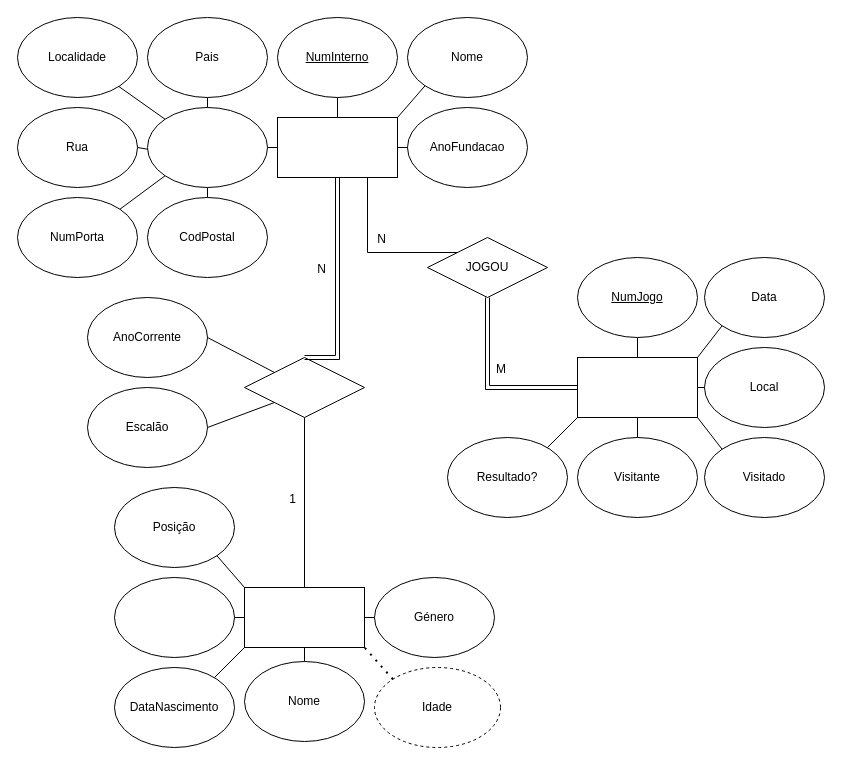
The diagram is 842 pixels wide and 765 high, and some of its shapes have lost their labels. Each missing label, with the centre of its shape:
"EQUIPA" belongs at (x=337, y=147).
"FILIADO_A" belongs at (x=304, y=387).
"JOGADOR" belongs at (x=304, y=617).
"JOGO" belongs at (x=637, y=387).
"Morada" belongs at (x=207, y=147).
"NumJogador" belongs at (x=174, y=617).
